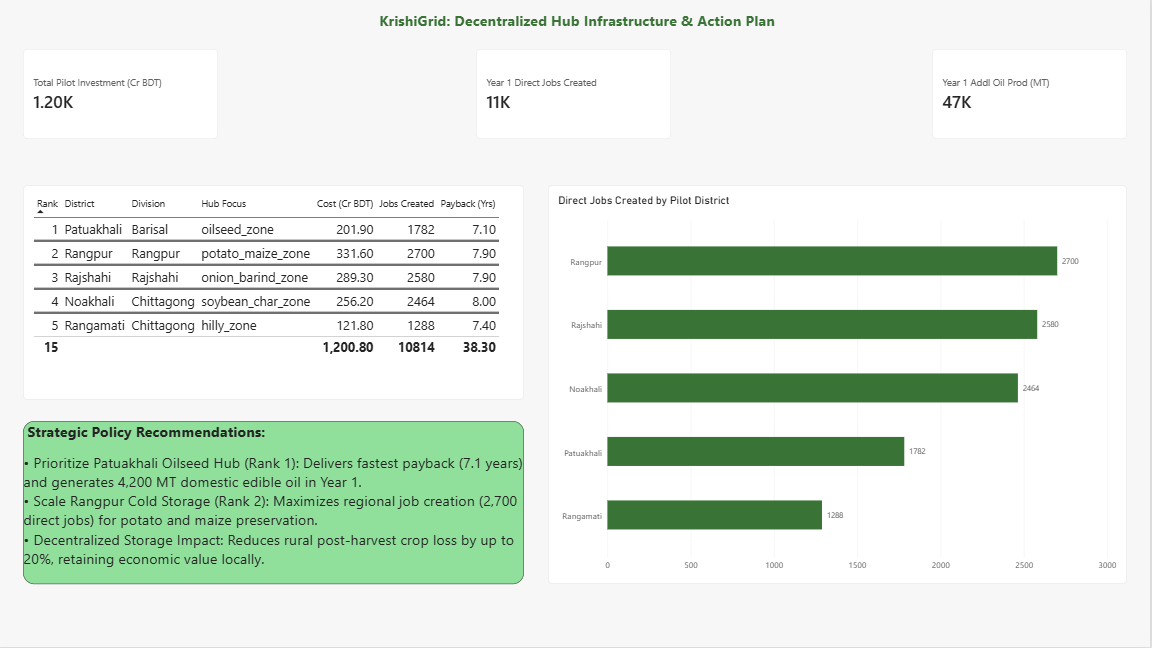

This screenshot's page, from the dashboard's own definition file:
{"tool":"powerbi","page":{"name":"Stock Alert & Infrastructure Recommendation ","canvas":[1920,1080],"ordinal":2},"visuals":[{"type":"textbox","box":[10,0,1910,83.3],"z":0},{"type":"cardVisual","fields":{"Data":["Sum(pilot_districts.total_pilot_cost_crore_bdt)"]},"box":[41.7,83.3,325,150],"z":1},{"type":"cardVisual","fields":{"Data":["Sum(pilot_districts.year1_direct_jobs_created)"]},"box":[796.7,83.3,325,150],"z":2},{"type":"cardVisual","fields":{"Data":["Sum(pilot_districts.year1_additional_oil_production_mt)"]},"box":[1556.7,83.3,325,150],"z":3},{"type":"tableEx","fields":{"Values":["Sum(pilot_districts.implementation_priority_rank)","pilot_districts.district_name","pilot_districts.division","pilot_districts.hub_variant","Sum(pilot_districts.total_pilot_cost_crore_bdt)","Sum(pilot_districts.year1_direct_jobs_created)","Sum(pilot_districts.estimated_payback_period_years)"]},"box":[41.7,310,835,358.3],"z":4},{"type":"clusteredBarChart","title":"Direct Jobs Created by Pilot District","fields":{"Category":["pilot_districts.district_name"],"Y":["Sum(pilot_districts.year1_direct_jobs_created)"]},"box":[916.7,310,965,665],"z":5},{"type":"textbox","box":[41.7,703.3,835,271.7],"z":6}]}

Visuals, with their boxes in screenshot pixels (x1, y1, x2, y2), scaled from the page's 1920x1080 canvas onto the 1152x648 screenshot:
textbox: x1=6 y1=0 x2=1151 y2=50
cardVisual - Sum(pilot_districts.total_pilot_cost_crore_bdt): x1=25 y1=50 x2=220 y2=140
cardVisual - Sum(pilot_districts.year1_direct_jobs_created): x1=478 y1=50 x2=673 y2=140
cardVisual - Sum(pilot_districts.year1_additional_oil_production_mt): x1=934 y1=50 x2=1129 y2=140
tableEx - Sum(pilot_districts.implementation_priority_rank) x pilot_districts.district_name: x1=25 y1=186 x2=526 y2=401
"Direct Jobs Created by Pilot District" clusteredBarChart: x1=550 y1=186 x2=1129 y2=585
textbox: x1=25 y1=422 x2=526 y2=585
